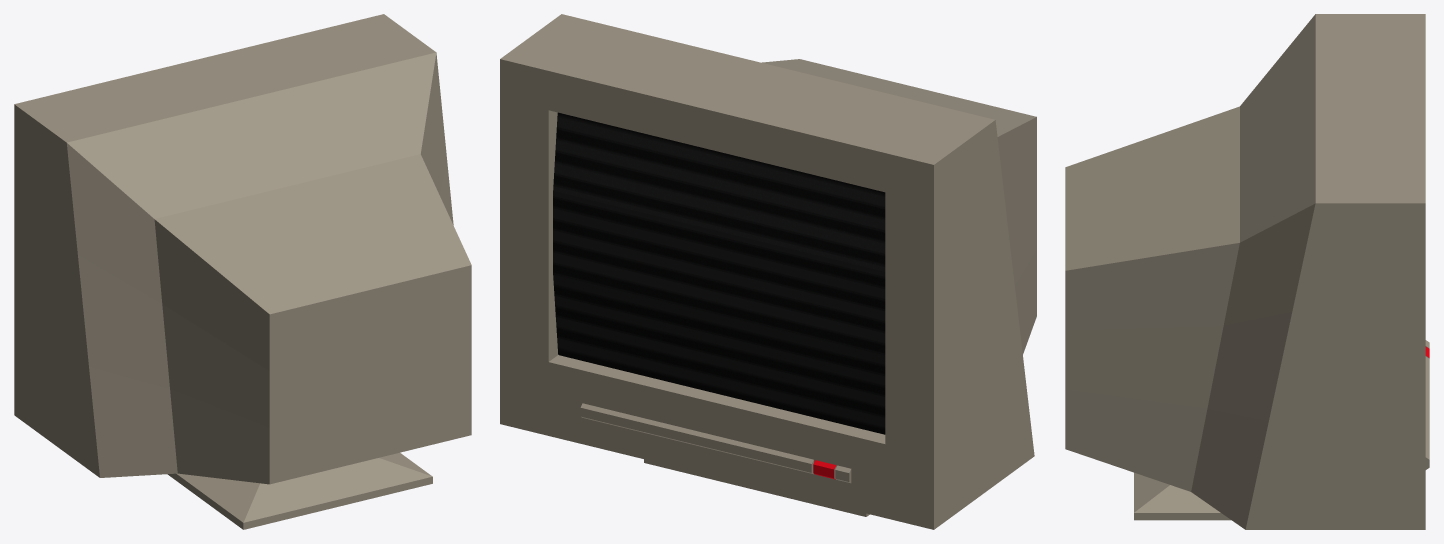
Rendered from Computador (1).fbx.
3 renders of one model, left to right at view 1: azimuth 30°, elevation 25°; view 2: azimuth 150°, elevation 25°; view 3: azimuth 270°, elevation 25°, orthographic. The views are drawn at different scales.
Parts seen in each view (by area): view 1: monitor; view 2: monitor; view 3: monitor.
Part boxes in pixels (left/top/right/bottom): monitor: left=14, top=14, right=471, bottom=529; monitor: left=500, top=14, right=1036, bottom=529; monitor: left=1065, top=14, right=1429, bottom=529.
Bounding box in the file's own units: 249 × 202 × 222.
3 materials, 1 textured.
